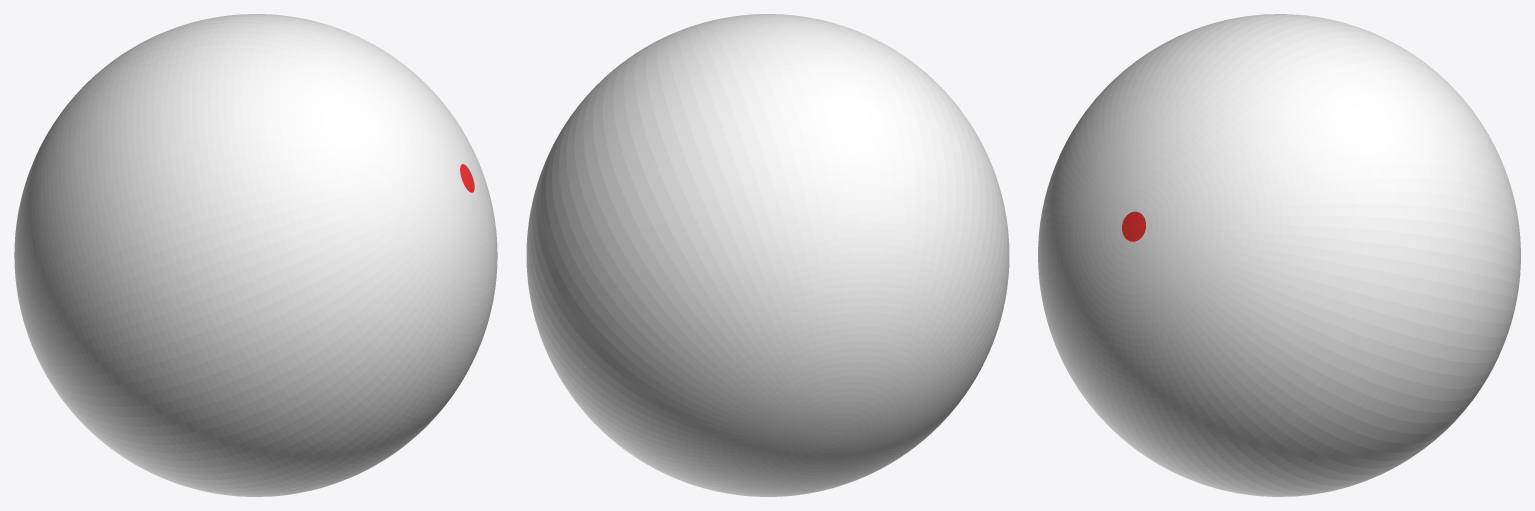
File: cueball.glb
3 views of the same model, side by side, from view 1: azimuth 30°, elevation 25°; view 2: azimuth 150°, elevation 25°; view 3: azimuth 270°, elevation 25° (orthographic).
Parts seen in each view (by area): view 1: Sphere; view 2: Sphere; view 3: Sphere.
Part boxes in pixels (box(x1,y1,x2,y2)): Sphere: box(14, 14, 497, 496); Sphere: box(526, 14, 1009, 496); Sphere: box(1038, 14, 1520, 496).
Size of the model in its own units: 3.7 by 3.7 by 3.7.
Materials: 1 (1 with a texture image).
